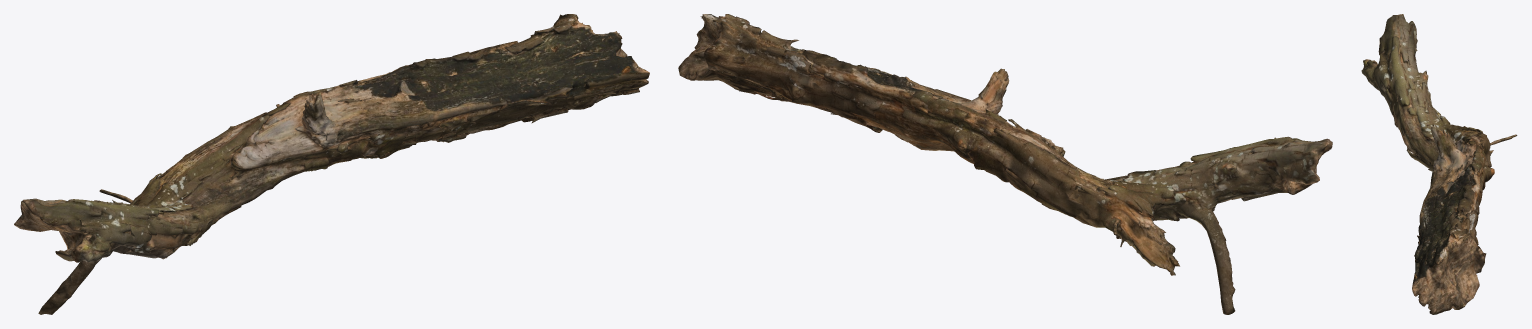
The model's file is dead_tree_trunk_02.glb.
The picture shows the model from 3 angles, left to right: view 1: azimuth 30°, elevation 25°; view 2: azimuth 150°, elevation 25°; view 3: azimuth 270°, elevation 25°; orthographic projection. The views are drawn at different scales.
Parts seen in each view (by area): view 1: dead_tree_trunk_02; view 2: dead_tree_trunk_02; view 3: dead_tree_trunk_02.
Boxes of the visible parts, bbox=[...] form: dead_tree_trunk_02: bbox=[14, 14, 649, 314]; dead_tree_trunk_02: bbox=[678, 14, 1332, 314]; dead_tree_trunk_02: bbox=[1361, 14, 1517, 314].
Bounding box in the file's own units: 4.05 × 1.05 × 1.05.
1 material, 1 textured.
